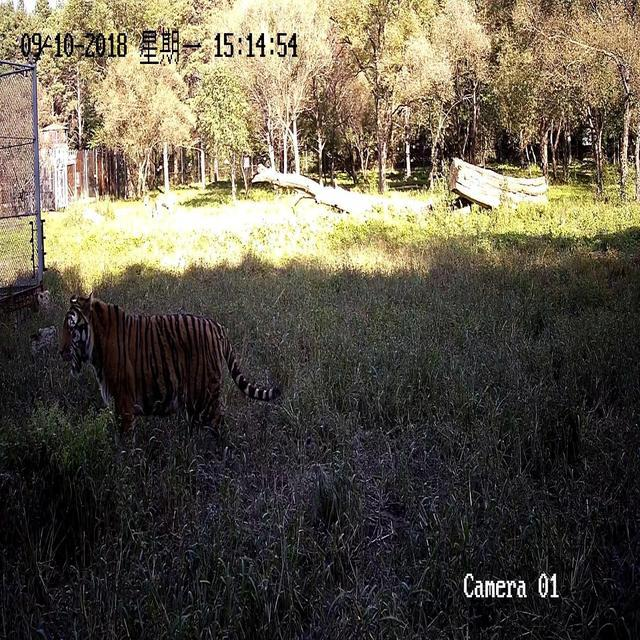tiger: (57, 290, 281, 452)
